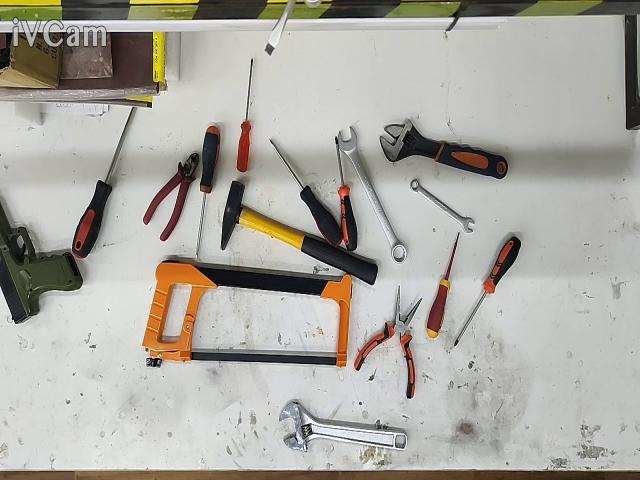Adjustable spanner: (379, 118, 509, 178), (279, 400, 407, 451)
Backsaw: (142, 260, 352, 367)
Cutting pliers: (144, 153, 199, 241)
Gun: (0, 203, 82, 323)
Hammer: (222, 182, 378, 284)
Needle-nose pliers: (354, 285, 422, 398)
Screwdriver: (72, 106, 136, 258), (270, 140, 342, 247), (456, 235, 522, 346), (426, 232, 459, 338), (195, 125, 220, 259), (335, 136, 357, 251), (237, 58, 253, 173)
Wrench: (338, 127, 406, 263), (410, 179, 474, 233)
